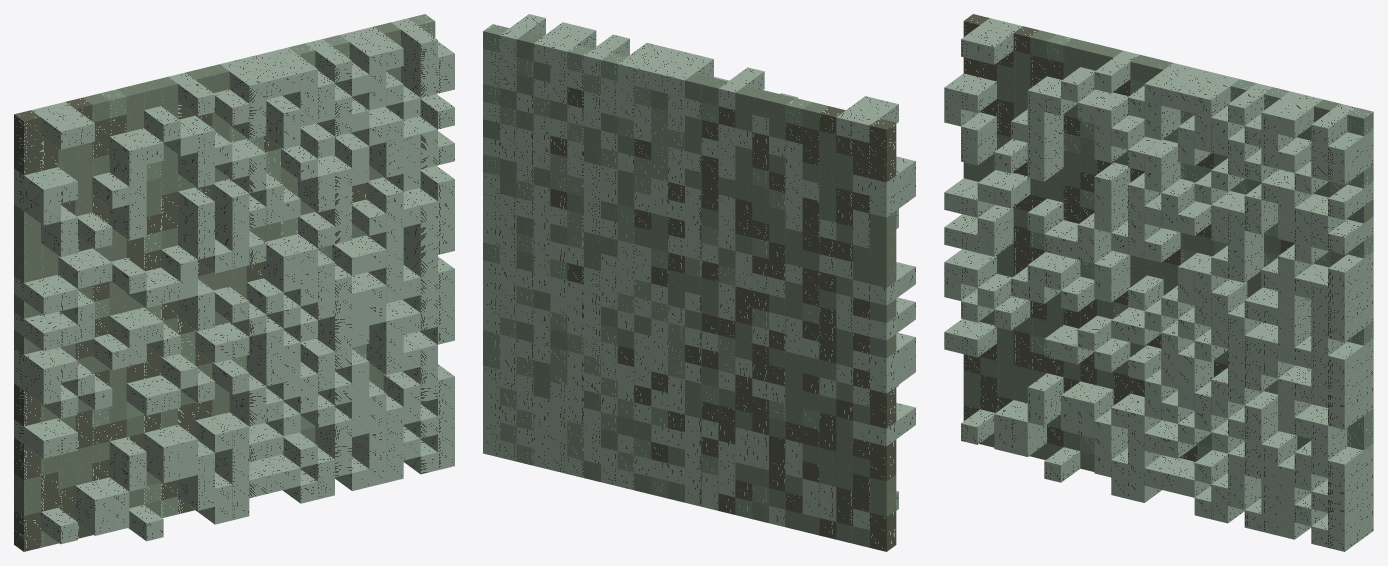
3 views of the same model, side by side, from view 1: azimuth 30°, elevation 25°; view 2: azimuth 150°, elevation 25°; view 3: azimuth 330°, elevation 25° (orthographic). The views are drawn at different scales.
Bounding box in the file's own units: 2.4 × 2.4 × 0.3.
